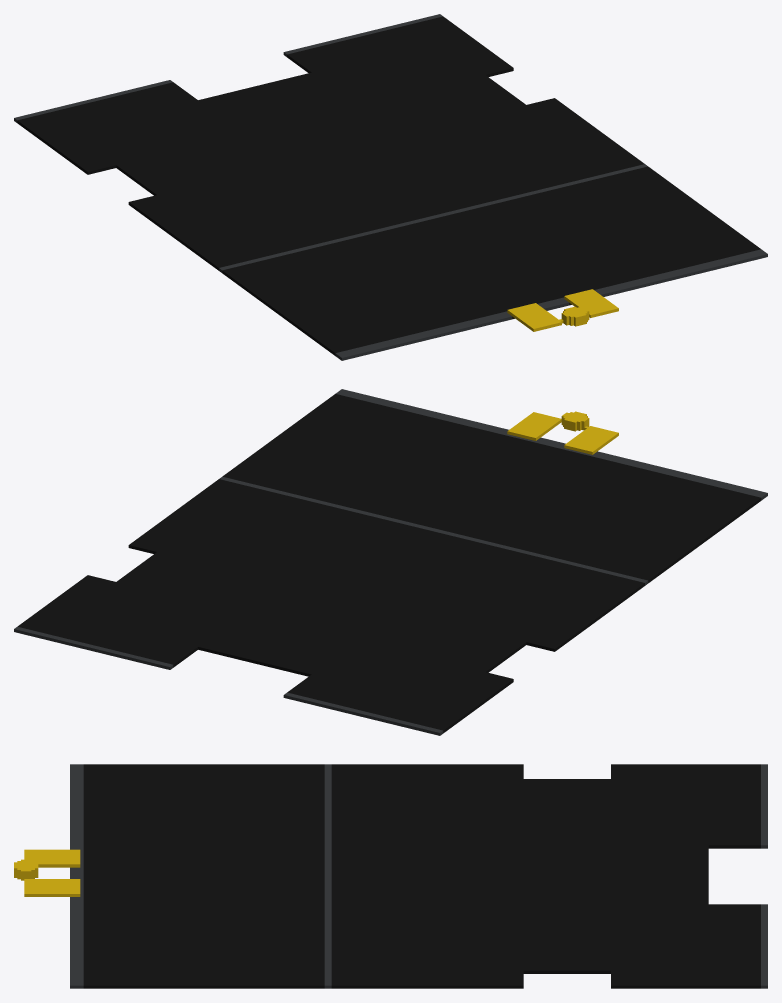
Rendered from poncho_makeshift.glb.
3 renders of one model, top to bottom at view 1: azimuth 30°, elevation 25°; view 2: azimuth 150°, elevation 25°; view 3: azimuth 270°, elevation 25°, orthographic. The views are drawn at different scales.
Visible parts, largest first — view 1: poncho_makeshift:compound; view 2: poncho_makeshift:compound; view 3: poncho_makeshift:compound.
Part boxes in pixels (left/top/right/bottom): poncho_makeshift:compound: left=14, top=14, right=767, bottom=360; poncho_makeshift:compound: left=14, top=389, right=767, bottom=735; poncho_makeshift:compound: left=14, top=764, right=767, bottom=988.
Bounding box in the file's own units: 0.6 × 0.016 × 0.864.
